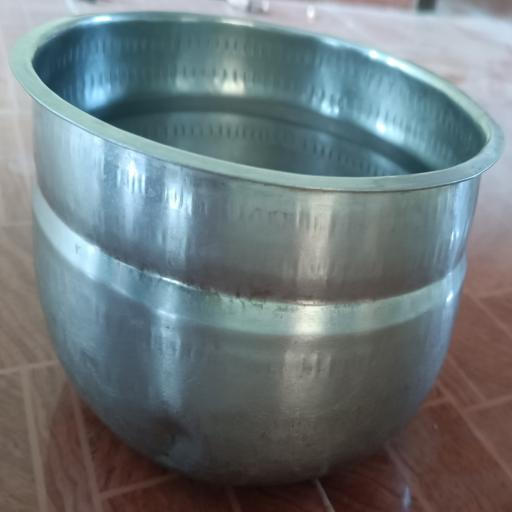vessel: (12, 12, 503, 484)
